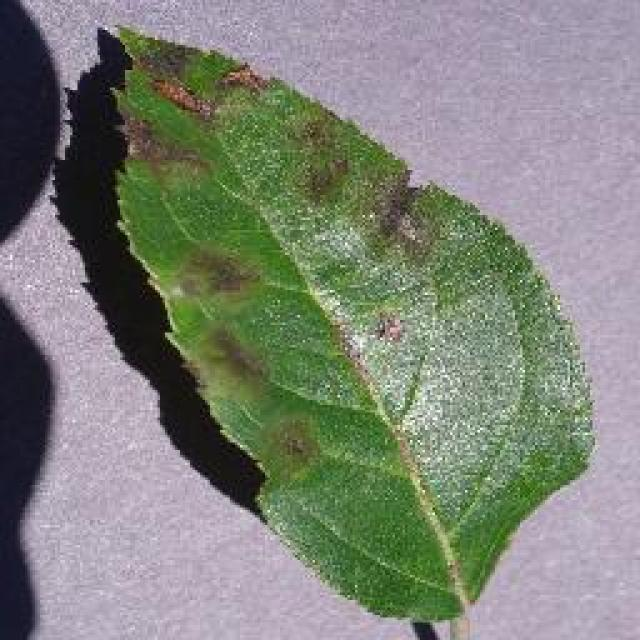apple scab disease: (95, 18, 597, 630)
